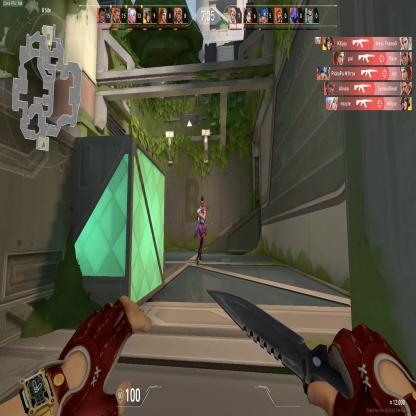enemy: (193, 194, 207, 266)
